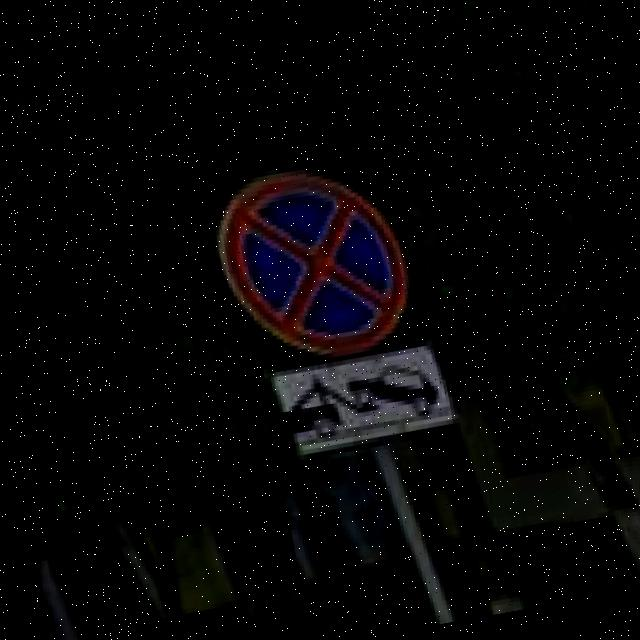Zakaz zatrzymywania sie: (206, 150, 420, 378)
